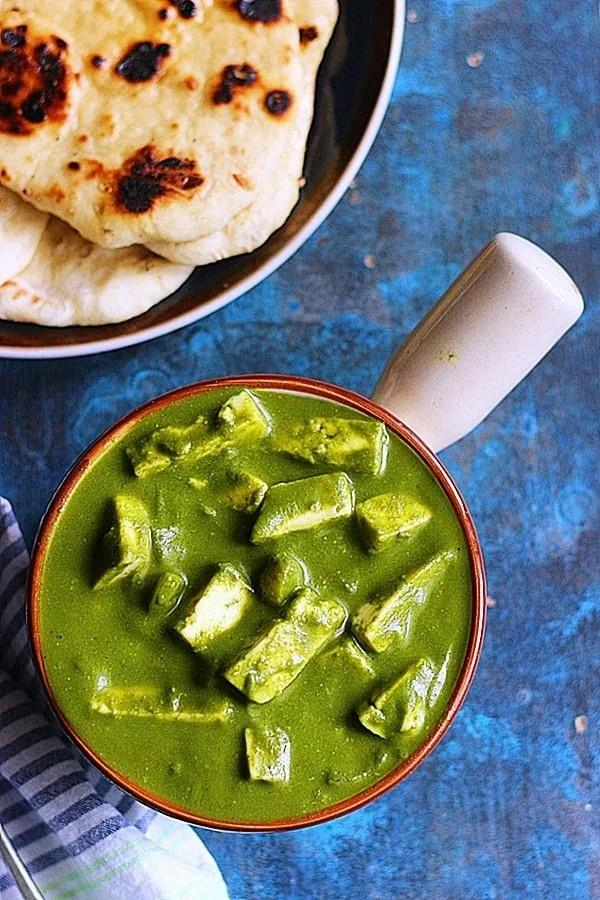PalakPaneer: (41, 385, 476, 825)
